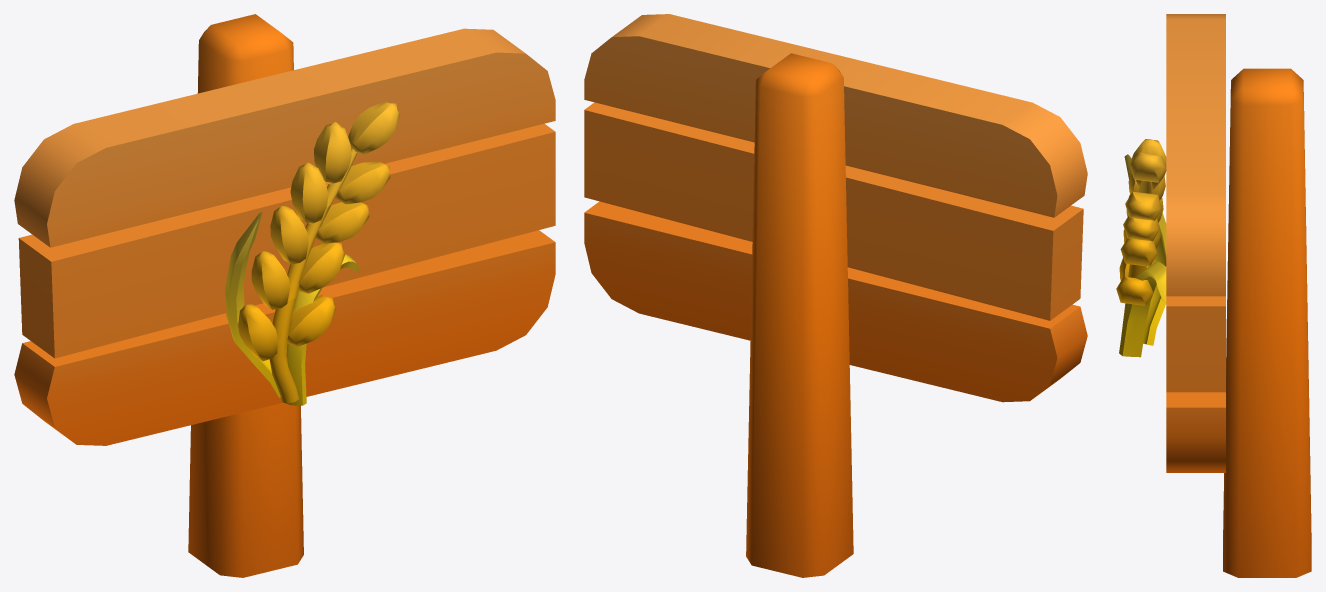
Rendered from Farm_Crop_Sign_Rice_01.fbx.
3 views of the same model, side by side, from view 1: azimuth 30°, elevation 25°; view 2: azimuth 150°, elevation 25°; view 3: azimuth 270°, elevation 25° (orthographic). The views are drawn at different scales.
Parts seen in each view (by area): view 1: Farm_Crop_Sign_Rice_01; view 2: Farm_Crop_Sign_Rice_01; view 3: Farm_Crop_Sign_Rice_01.
Part boxes in pixels (x1,y1,x2,y2): Farm_Crop_Sign_Rice_01: (14, 14, 555, 577); Farm_Crop_Sign_Rice_01: (584, 14, 1087, 577); Farm_Crop_Sign_Rice_01: (1116, 14, 1311, 577).
Bounding box in the file's own units: 90.11 × 88.8 × 32.74.
